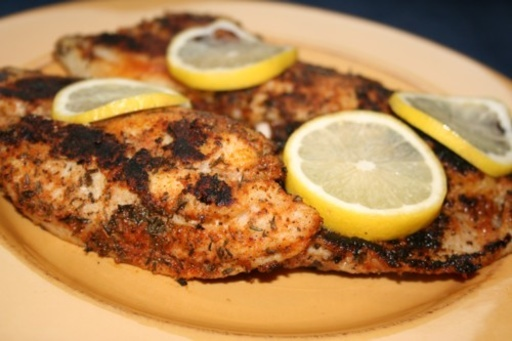background: (0, 6, 410, 151)
